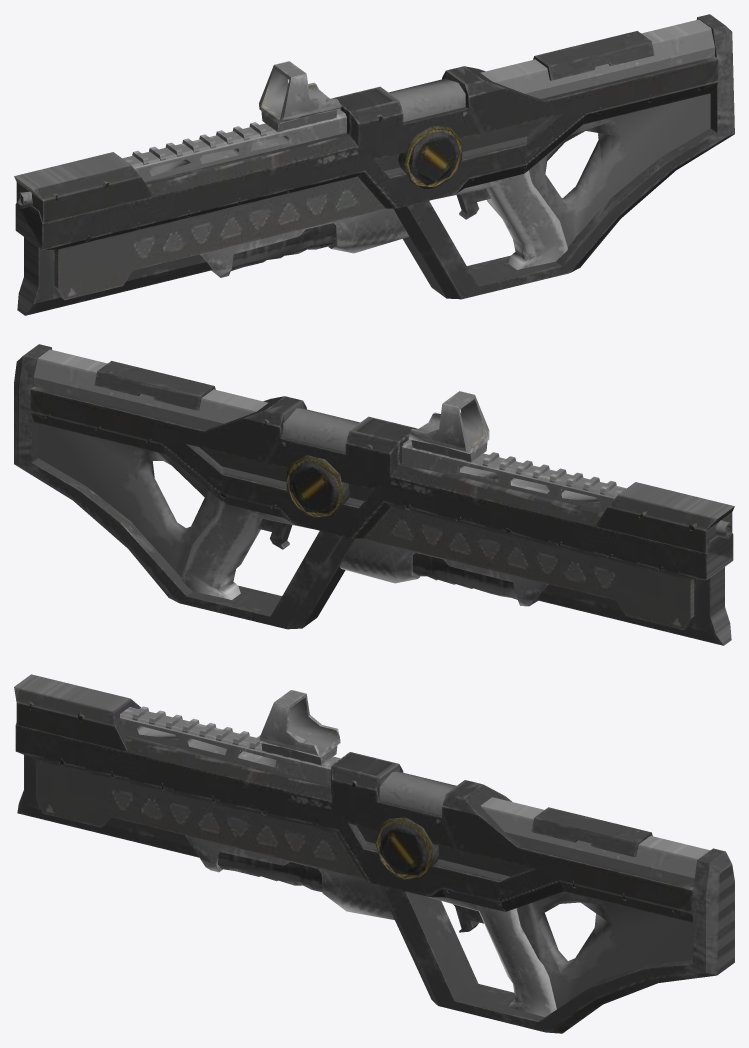
File: rifle.glb
The picture shows the model from 3 angles, top to bottom: view 1: azimuth 30°, elevation 25°; view 2: azimuth 150°, elevation 25°; view 3: azimuth 330°, elevation 25°; orthographic projection.
Visible parts, largest first — view 1: Gun_Rifle; view 2: Gun_Rifle; view 3: Gun_Rifle.
Boxes of the visible parts, box(x1,y1,x2,y2) form: Gun_Rifle: box(14, 14, 734, 315); Gun_Rifle: box(14, 344, 734, 645); Gun_Rifle: box(14, 674, 734, 1033).
Bounding box in the file's own units: 2.84 × 0.9999 × 0.2326.
Materials: 1 (1 with a texture image).
